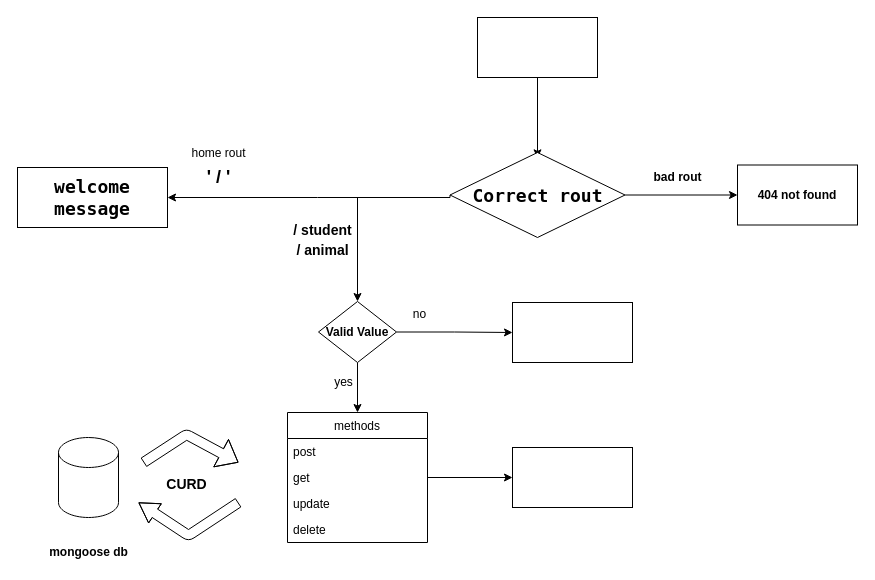
Image size: 875x580. Some labels were removed from this diagram. The centre of each missing label's shape, as x and y in pixels:
"500 error response" goes at (572,332).
"API END POINT" goes at (537,47).
"JSON response" goes at (572,477).
